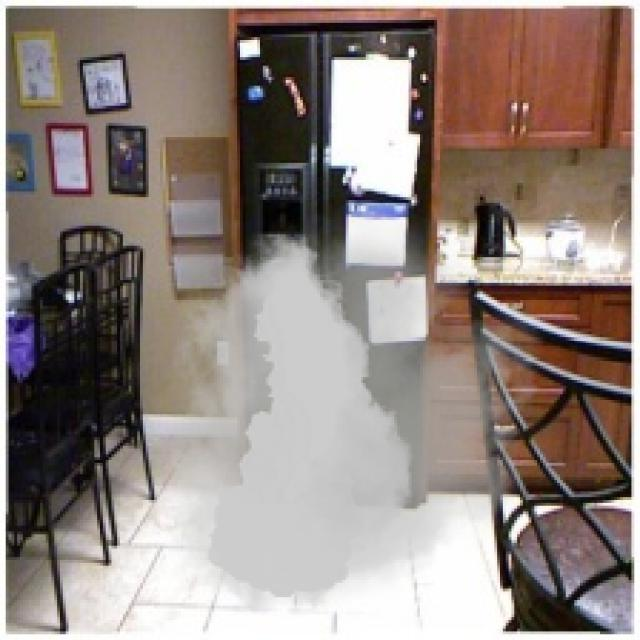smoke: (137, 205, 563, 626)
